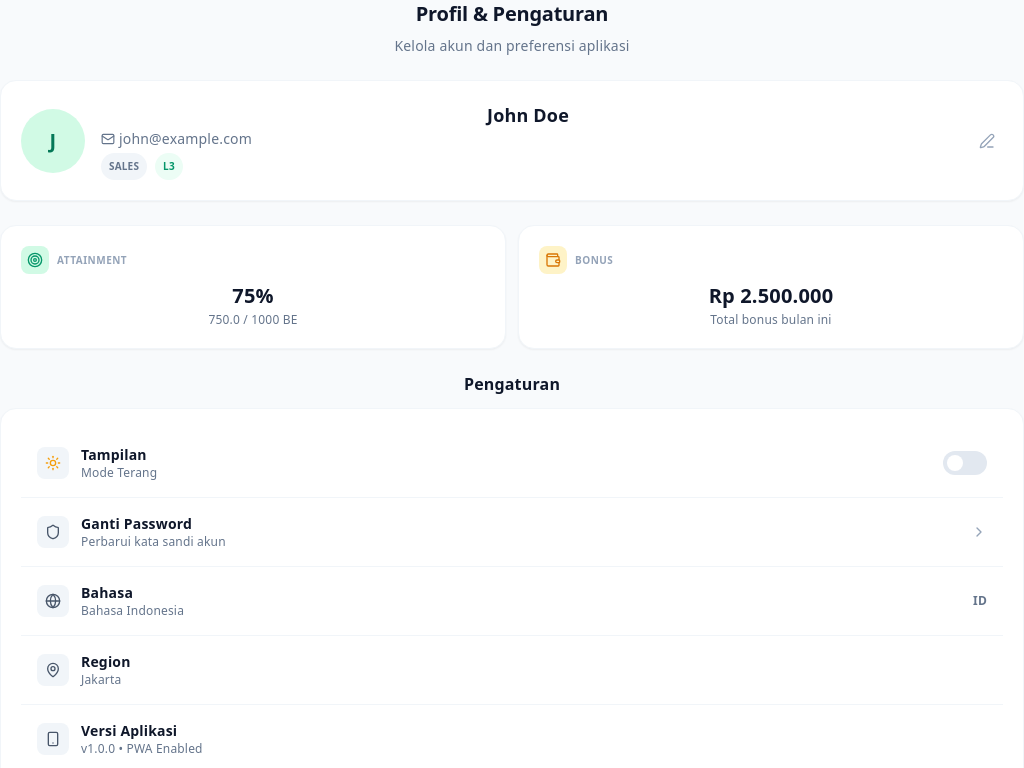
Test: ProfileView › ✅ Edit Name › opens edit name modal when edit button clicked
Expected: the heading "John Doe" is shown, [487,103,569,127]
Click the 1st button. click: (987, 141)
box: [971,125,1003,157]
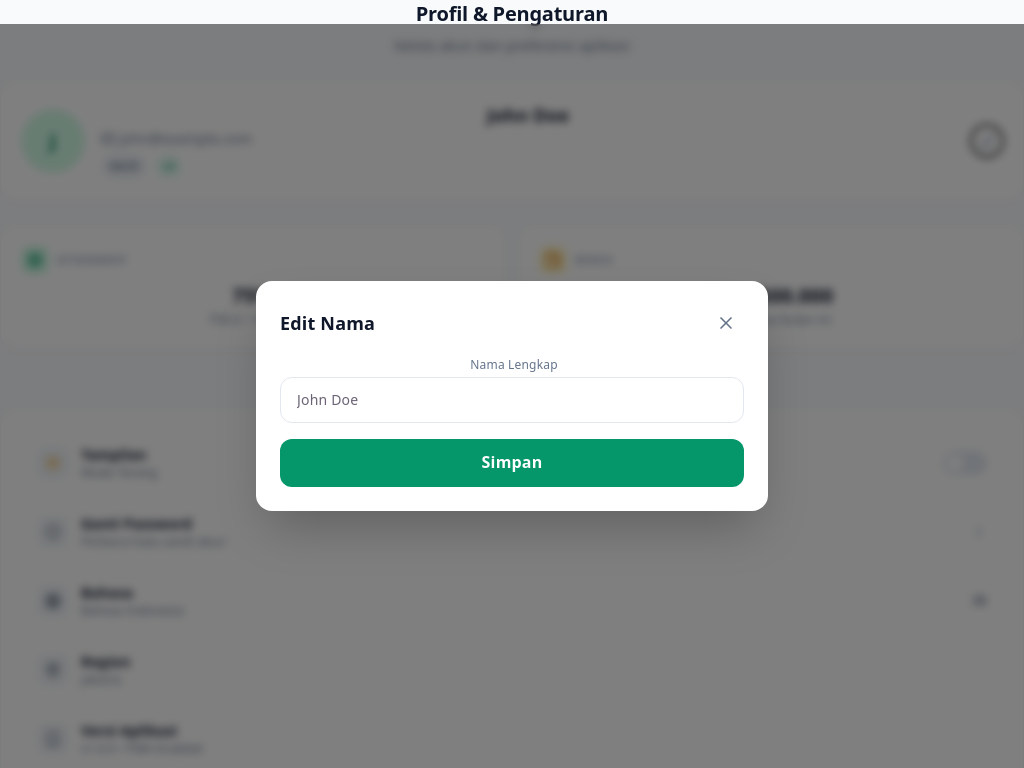
Expected: the heading "Edit Nama" is shown, [280,309,375,337]
Expected: the field with placeholder "Masukkan nama" is shown, [280,377,744,423]
